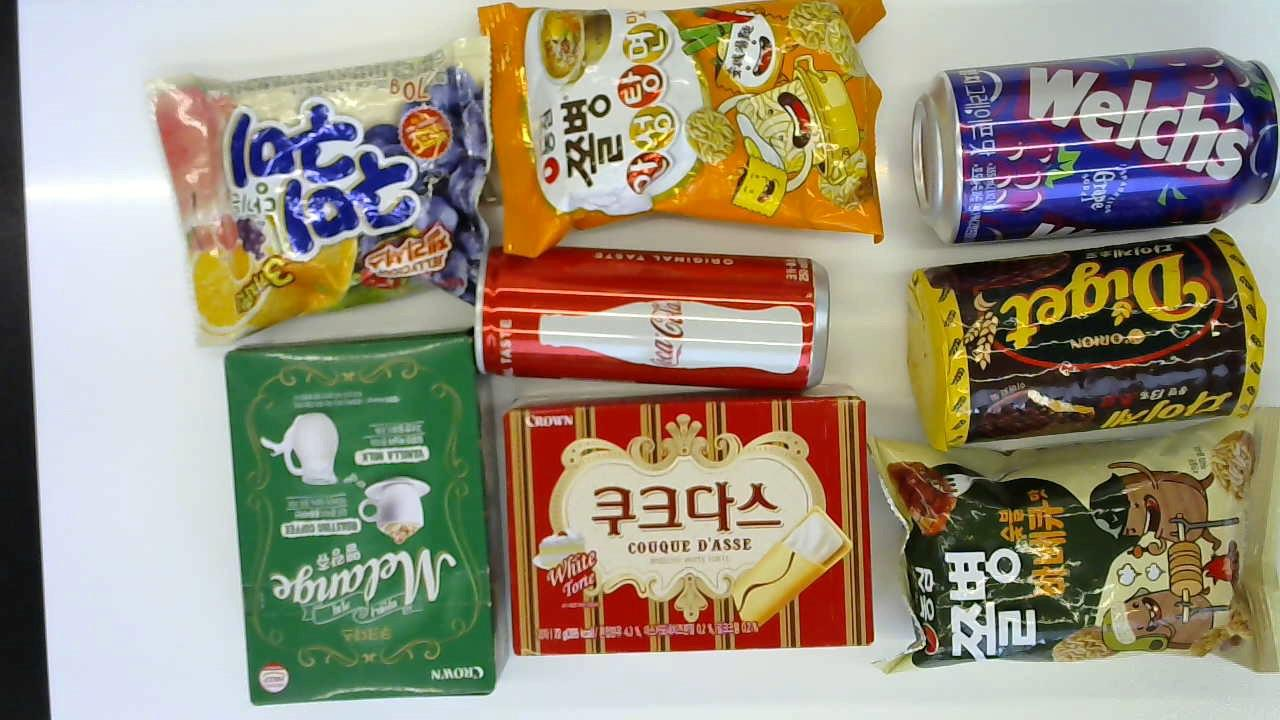coke: (470, 236, 831, 396)
couque_coffee: (217, 321, 503, 711)
couque_white: (499, 376, 868, 667)
diget_choco: (895, 225, 1277, 449)
gumi_gumi: (146, 27, 490, 347)
jjolbyung_noodle: (467, 0, 895, 247)
jjolbyung_ori: (869, 424, 1276, 679)
welchs: (907, 47, 1280, 239)
